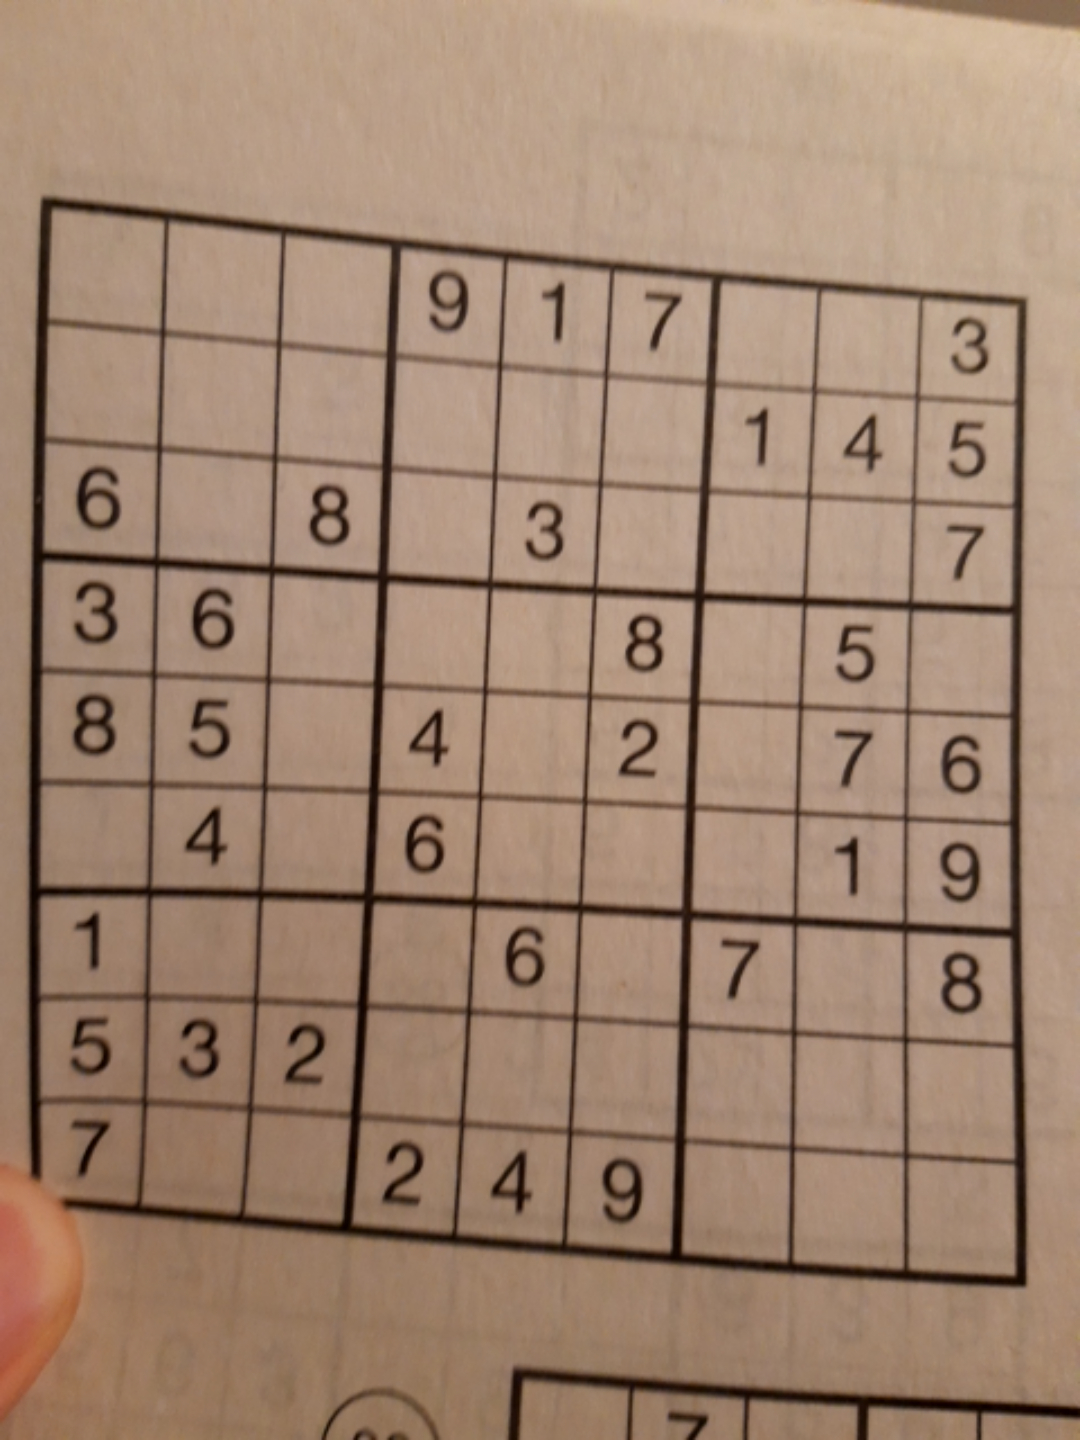sudoku: (23, 193, 1029, 1289)
